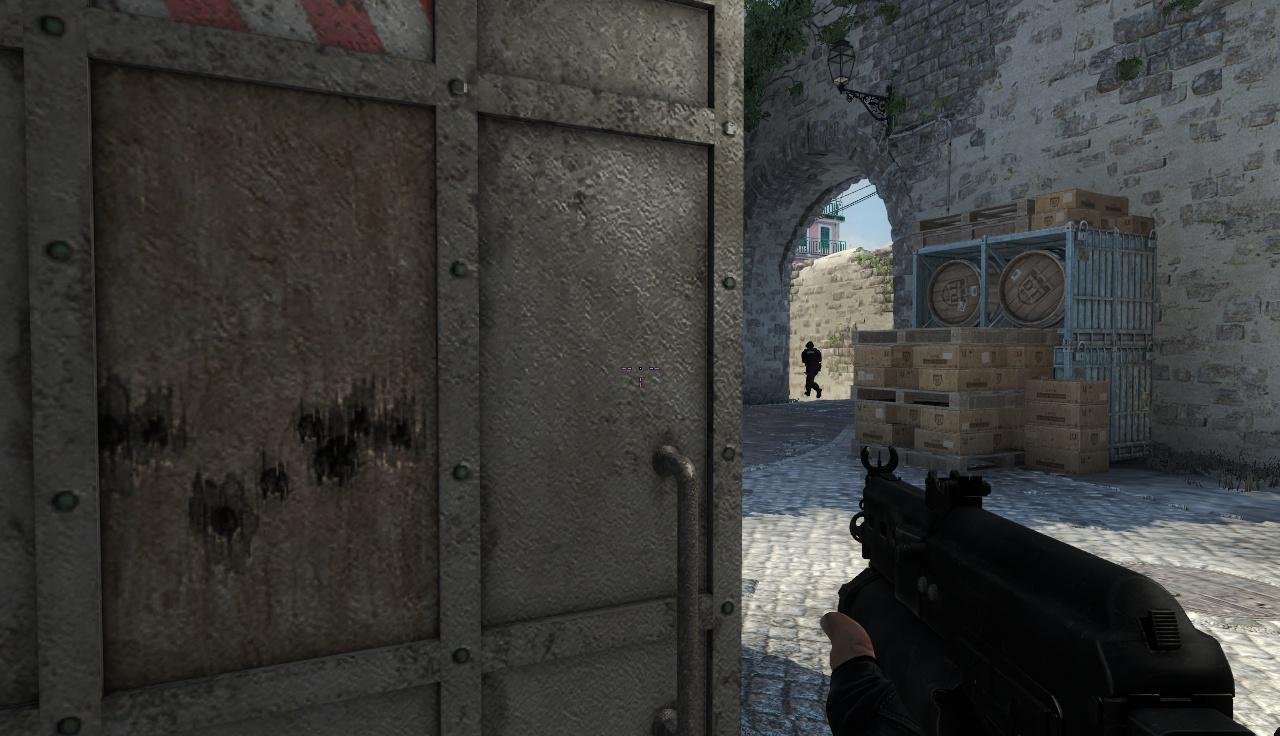ct: (801, 339, 821, 397), (801, 340, 821, 398)
cthead: (804, 339, 813, 350)
rifle: (845, 453, 1257, 736)
